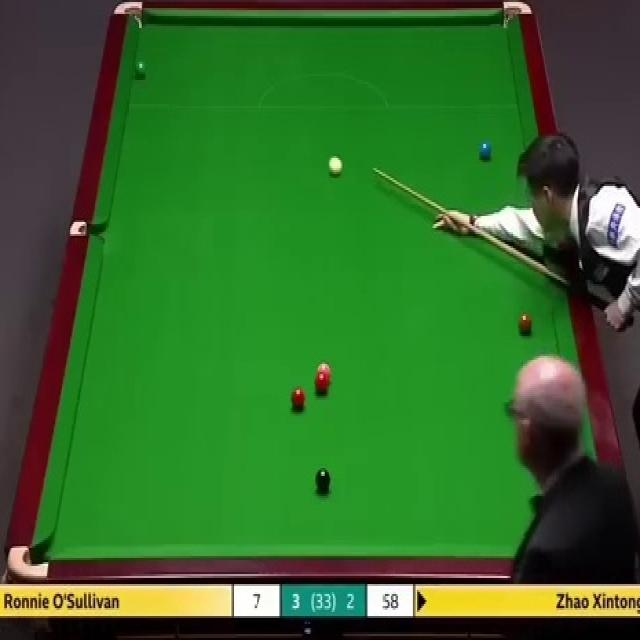pocket: (5, 545, 51, 583), (594, 542, 637, 580), (500, 0, 532, 32), (112, 0, 147, 29), (68, 220, 104, 237)
